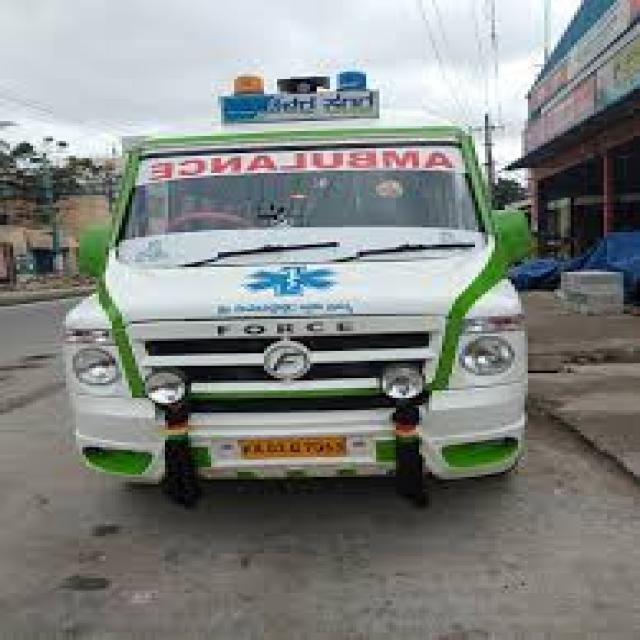ambulance: (66, 72, 531, 504)
